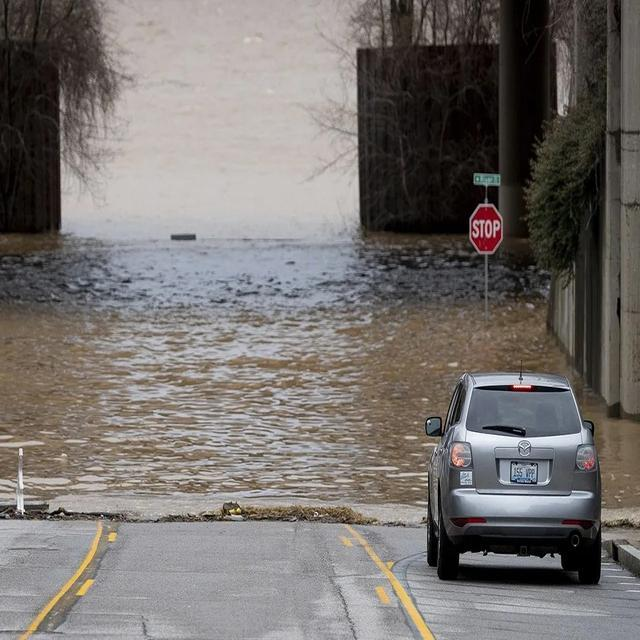Car-RiskLevel1: (416, 357, 615, 593)
